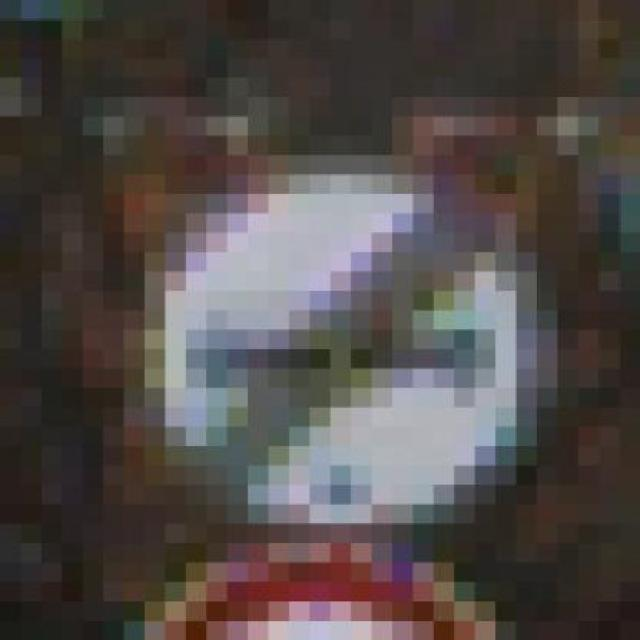No_Over_Taking: (144, 116, 558, 524)
